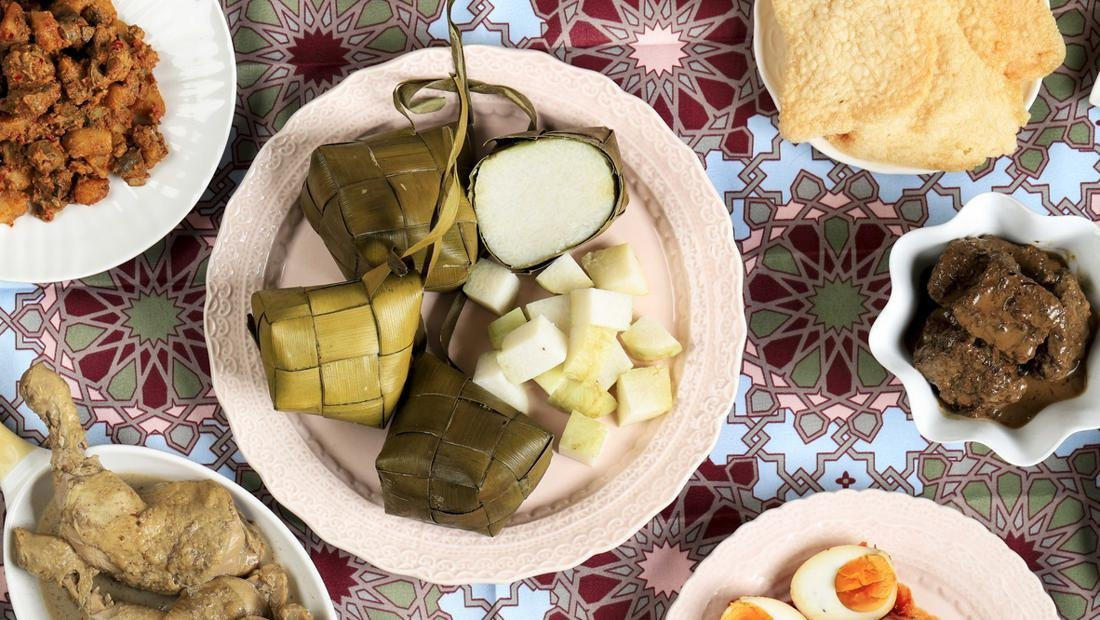ketupat: (372, 342, 553, 537), (243, 263, 426, 430), (296, 125, 477, 290)
